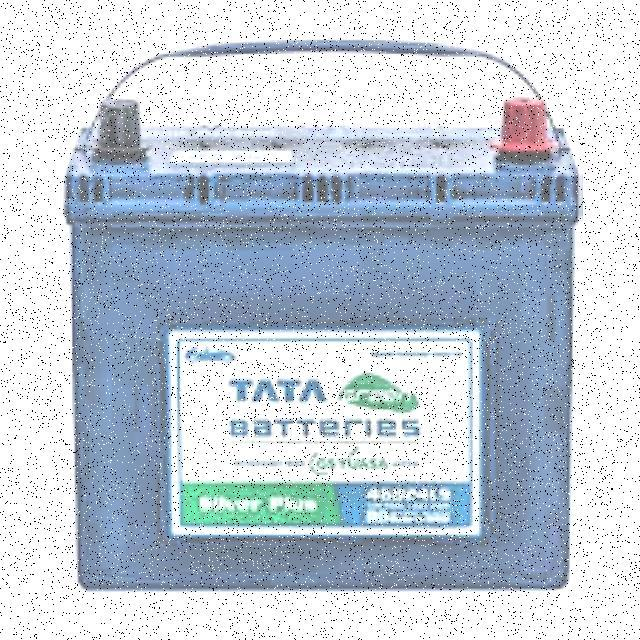B3: (63, 33, 600, 603)
